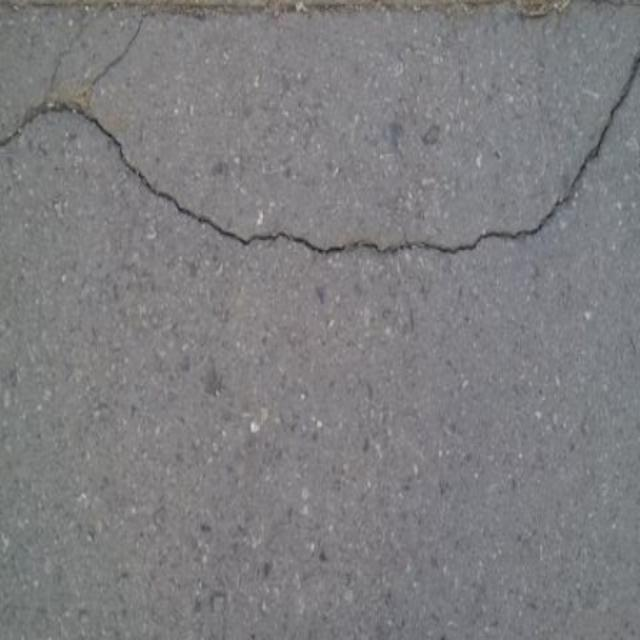Crack: (0, 49, 640, 269)
